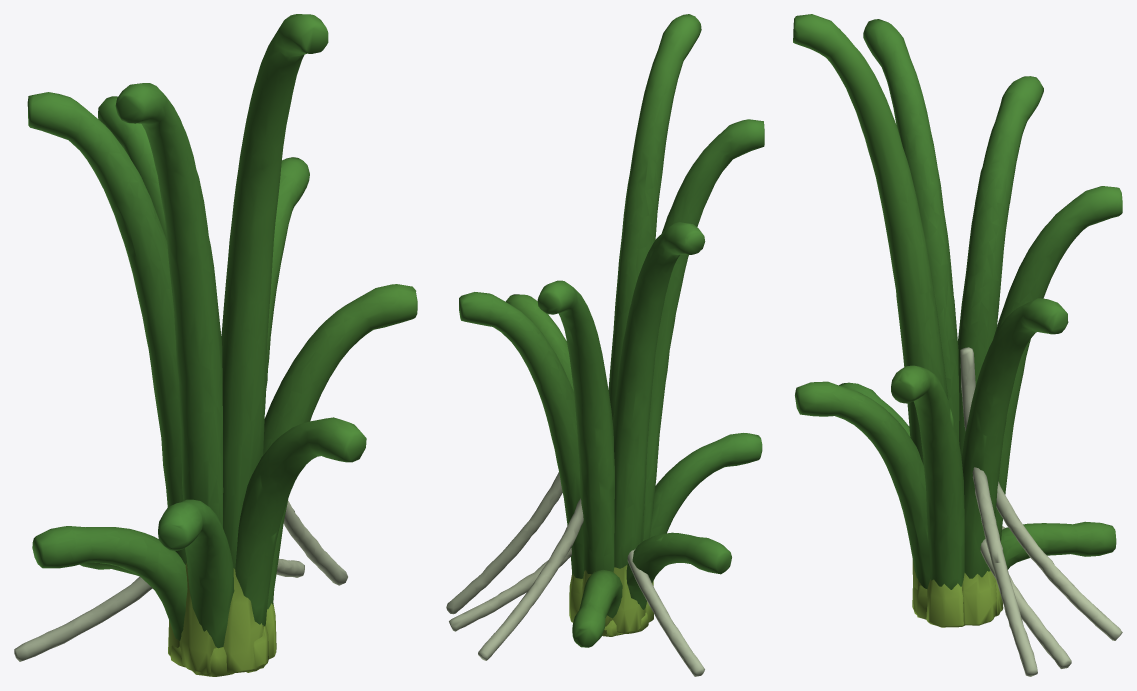
File: canopy_monstera_stem.glb
The picture shows the model from 3 angles, left to right: view 1: azimuth 30°, elevation 25°; view 2: azimuth 150°, elevation 25°; view 3: azimuth 270°, elevation 25°; orthographic projection. The views are drawn at different scales.
Visible parts, largest first — view 1: canopy_monstera_stem; view 2: canopy_monstera_stem; view 3: canopy_monstera_stem.
Boxes of the visible parts, x1,y1,x2,y2 form: canopy_monstera_stem: (14, 14, 417, 676); canopy_monstera_stem: (446, 14, 764, 676); canopy_monstera_stem: (793, 14, 1122, 676).
Size of the model in its own units: 9.48 by 19.15 by 9.62.
